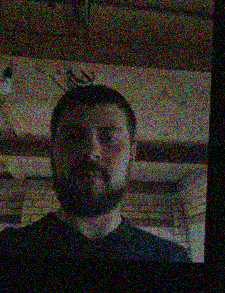without_mask: (52, 116, 126, 216)
